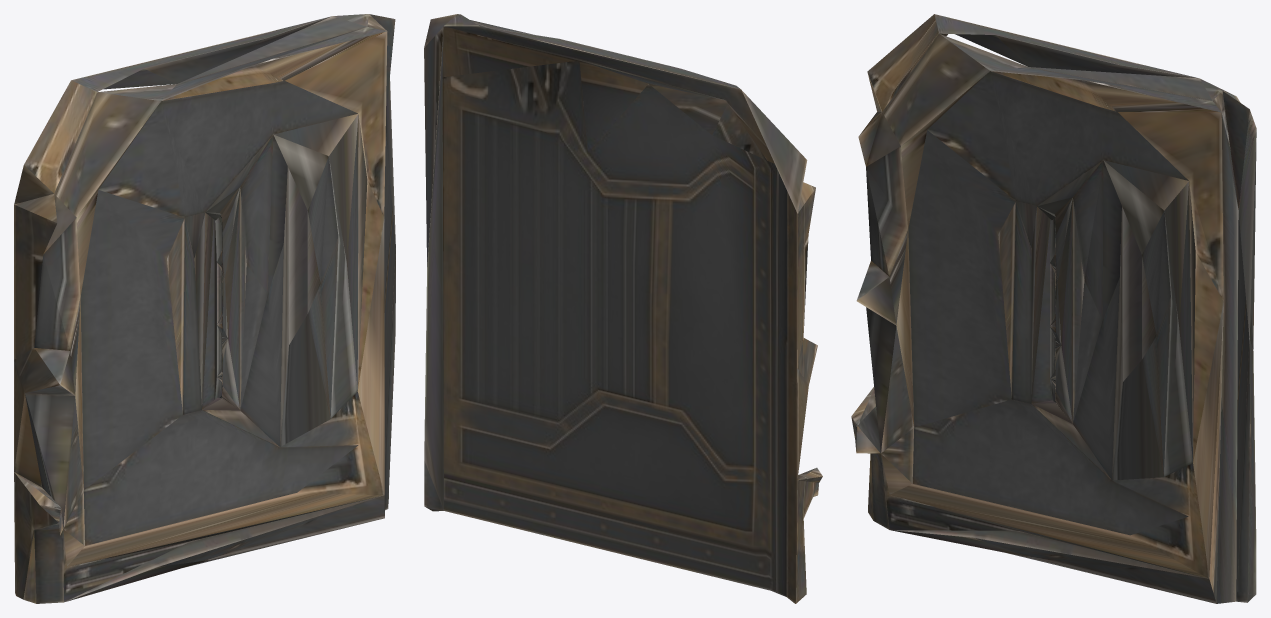
File: imperial_city_gate__gate_left_lod1.glb
3 renders of one model, left to right at view 1: azimuth 30°, elevation 25°; view 2: azimuth 150°, elevation 25°; view 3: azimuth 330°, elevation 25°, orthographic.
Parts seen in each view (by area): view 1: mesh_node; view 2: mesh_node; view 3: mesh_node.
Part boxes in pixels (bbox=[...]): mesh_node: bbox=[14, 14, 395, 603]; mesh_node: bbox=[424, 14, 822, 603]; mesh_node: bbox=[851, 14, 1256, 603].
Bounding box in the file's own units: 3.55 × 4.55 × 0.5486.
Materials: 1 (1 with a texture image).
